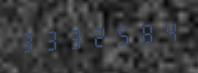eight: (132, 17, 154, 49)
five: (109, 19, 131, 50)
four: (155, 16, 177, 47)
three: (17, 25, 39, 57), (40, 24, 62, 55), (63, 22, 85, 53)
two: (86, 20, 108, 52)
